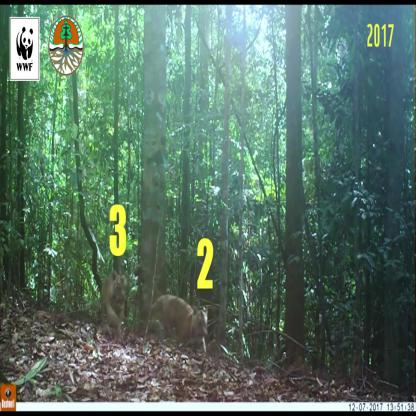Tiger: (152, 272, 213, 357), (93, 267, 138, 340)
